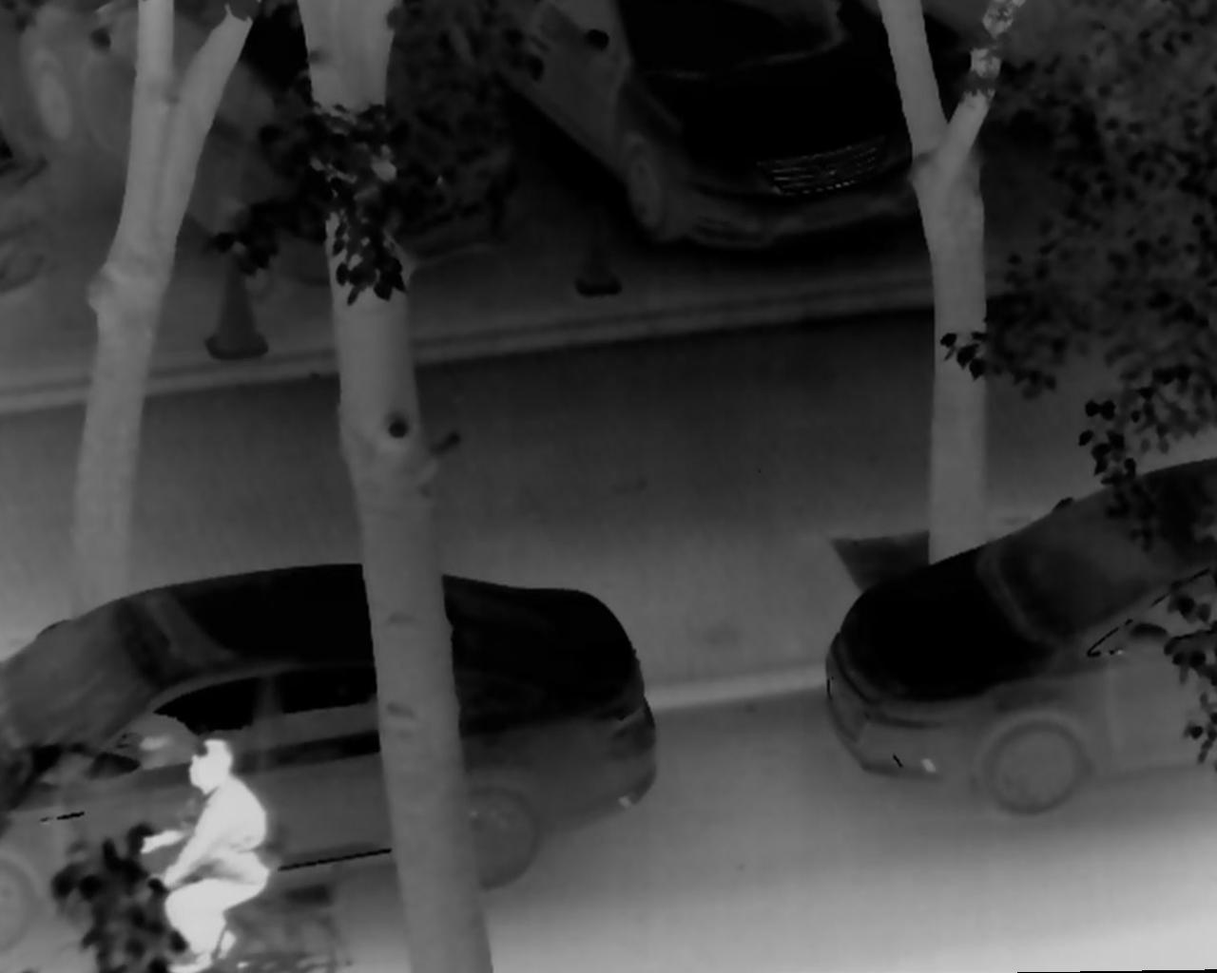person: (119, 738, 293, 973)
